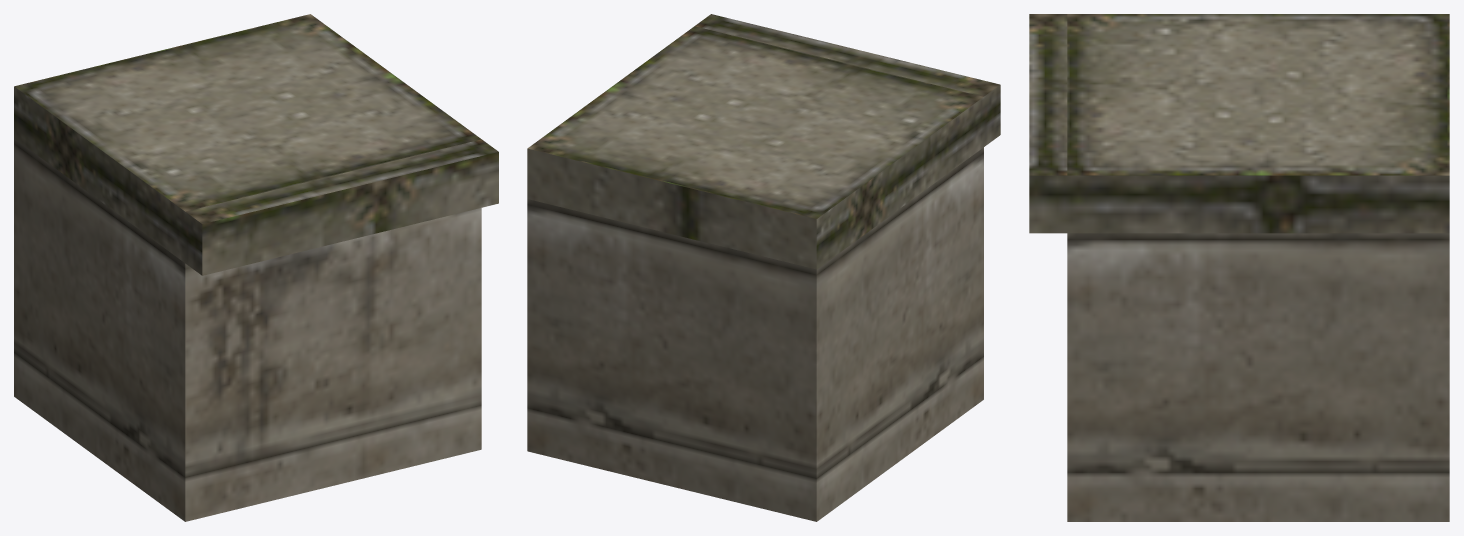
File: MO_ELEVATED_FLOOR_02_008.fbx
3 views of the same model, side by side, from view 1: azimuth 30°, elevation 25°; view 2: azimuth 150°, elevation 25°; view 3: azimuth 270°, elevation 25° (orthographic). The views are drawn at different scales.
Visible parts, largest first — view 1: MO_ELEVATED FLOOR_02.008; view 2: MO_ELEVATED FLOOR_02.008; view 3: MO_ELEVATED FLOOR_02.008.
Boxes of the visible parts, left/top/right/bottom form: MO_ELEVATED FLOOR_02.008: left=14, top=14, right=498, bottom=521; MO_ELEVATED FLOOR_02.008: left=527, top=14, right=1000, bottom=521; MO_ELEVATED FLOOR_02.008: left=1029, top=14, right=1449, bottom=521.
Bounding box in the file's own units: 2 × 2 × 2.2.
